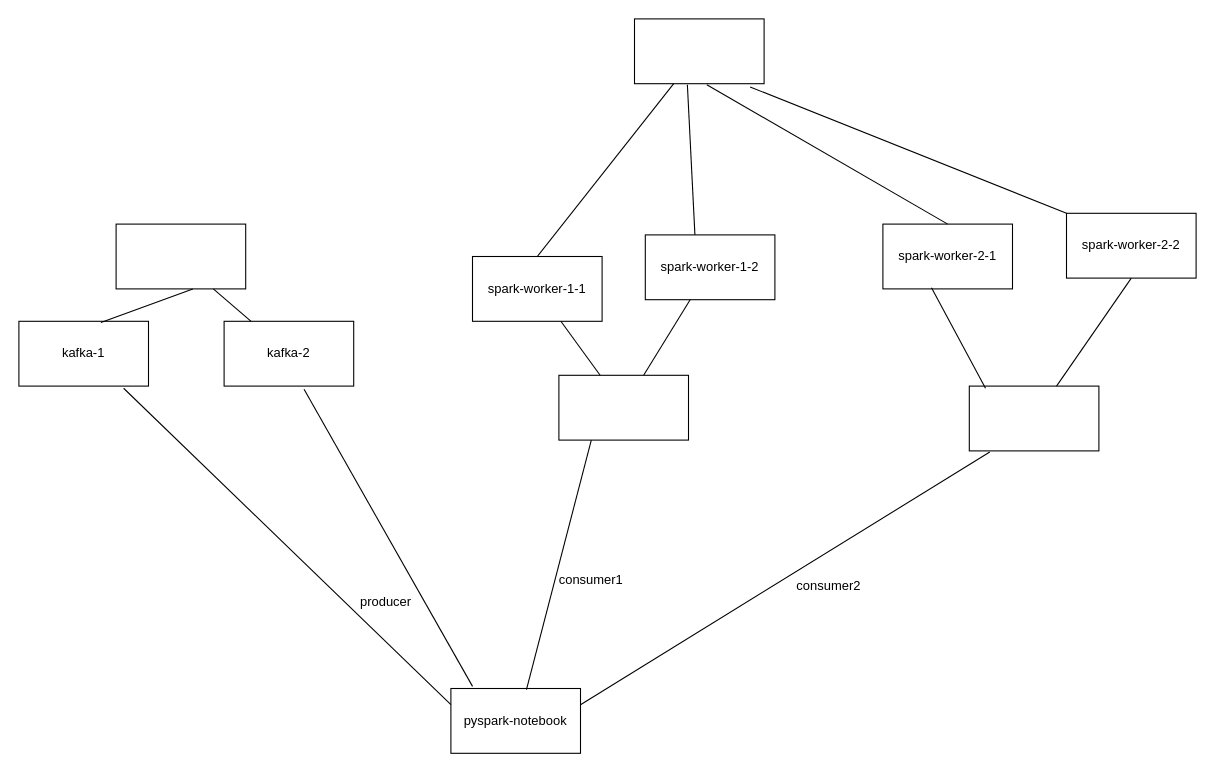
Some shapes in this 1215 by 772 pixel diagram are drawn without their labels. Each missing label, with the box of its shape:
mongodb: (633, 18, 764, 84)
spark-master-1: (558, 374, 688, 440)
spark-master-2: (968, 385, 1099, 451)
zookeeper: (115, 223, 246, 289)
